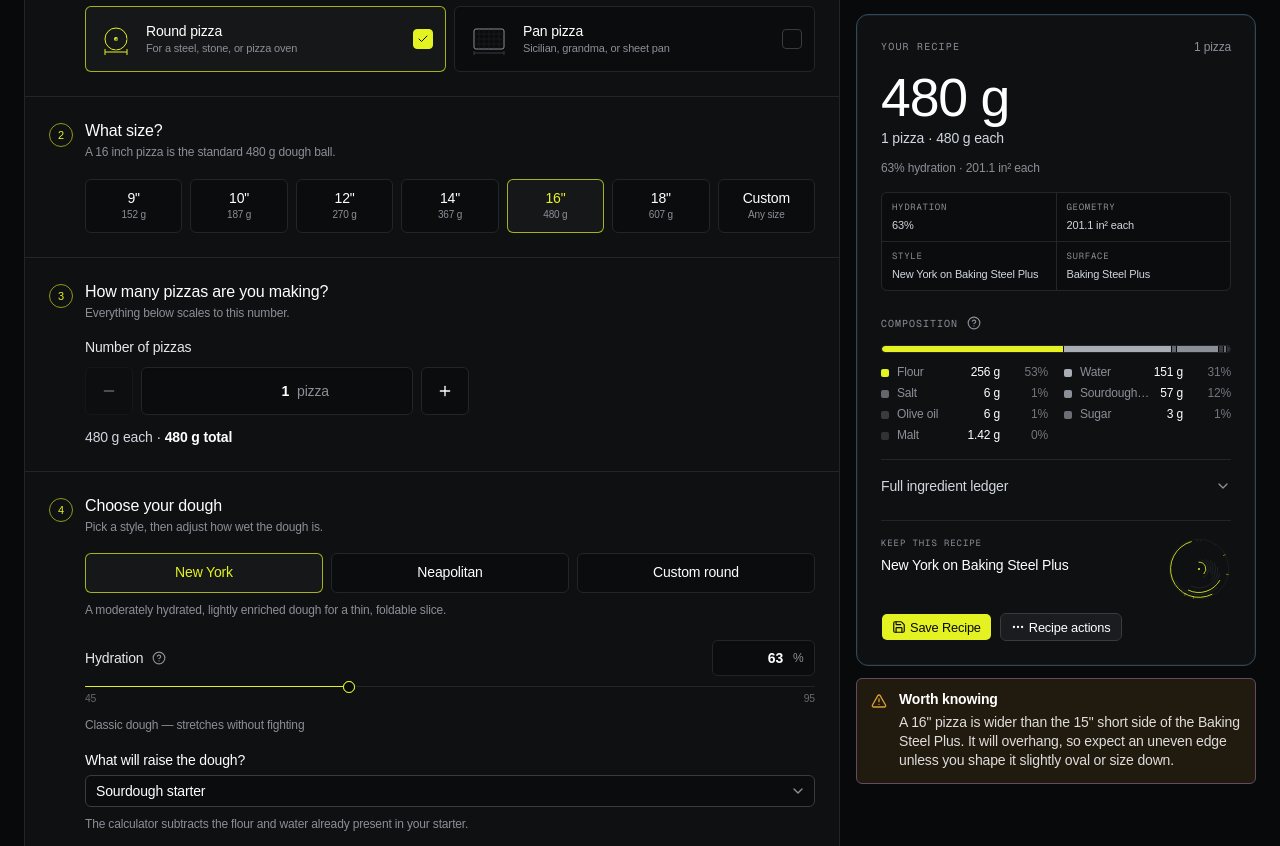
sourdough mode › reports the full starter breakdown in the ledger
(page scrolled)
Click the button "Full ingredient ledger": (945, 487) [881,473,1231,501]
(page scrolled)
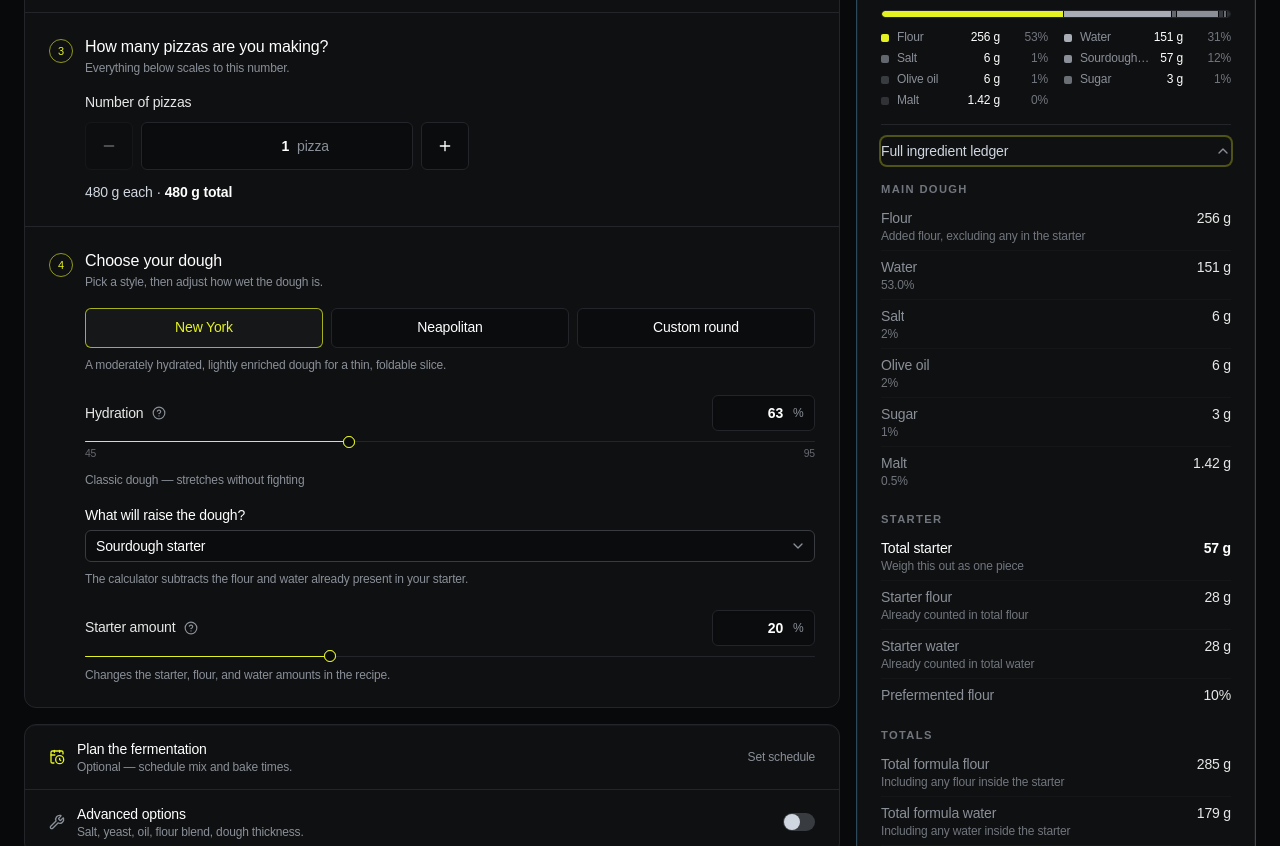
expect the element "Your recipe" shows "total starter": met, box [881,540,952,556]
expect the element "Your recipe" shows "starter flour": met, box [881,589,952,605]
expect the element "Your recipe" shows "starter water": met, box [881,638,959,654]
